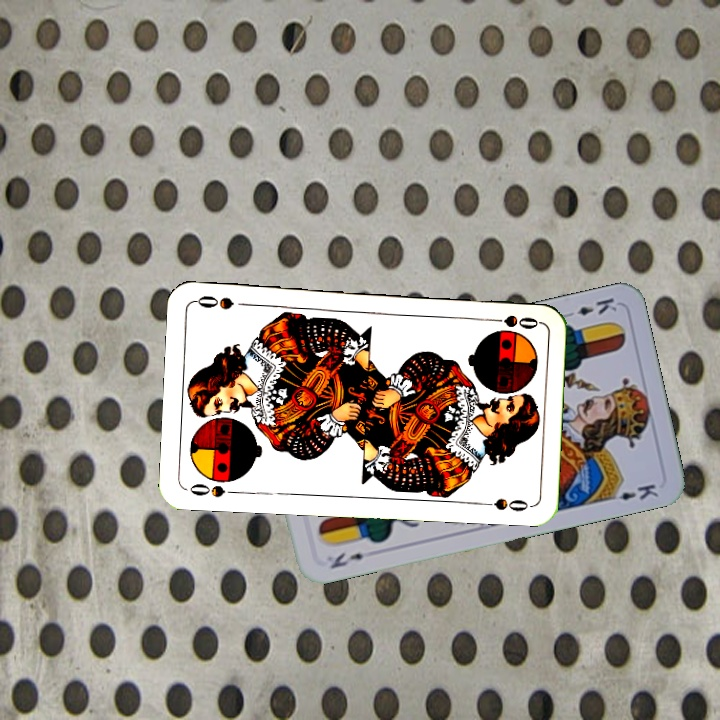EK: (560, 293, 620, 320), (326, 548, 366, 572)
SO: (481, 310, 541, 331), (183, 480, 242, 500)
